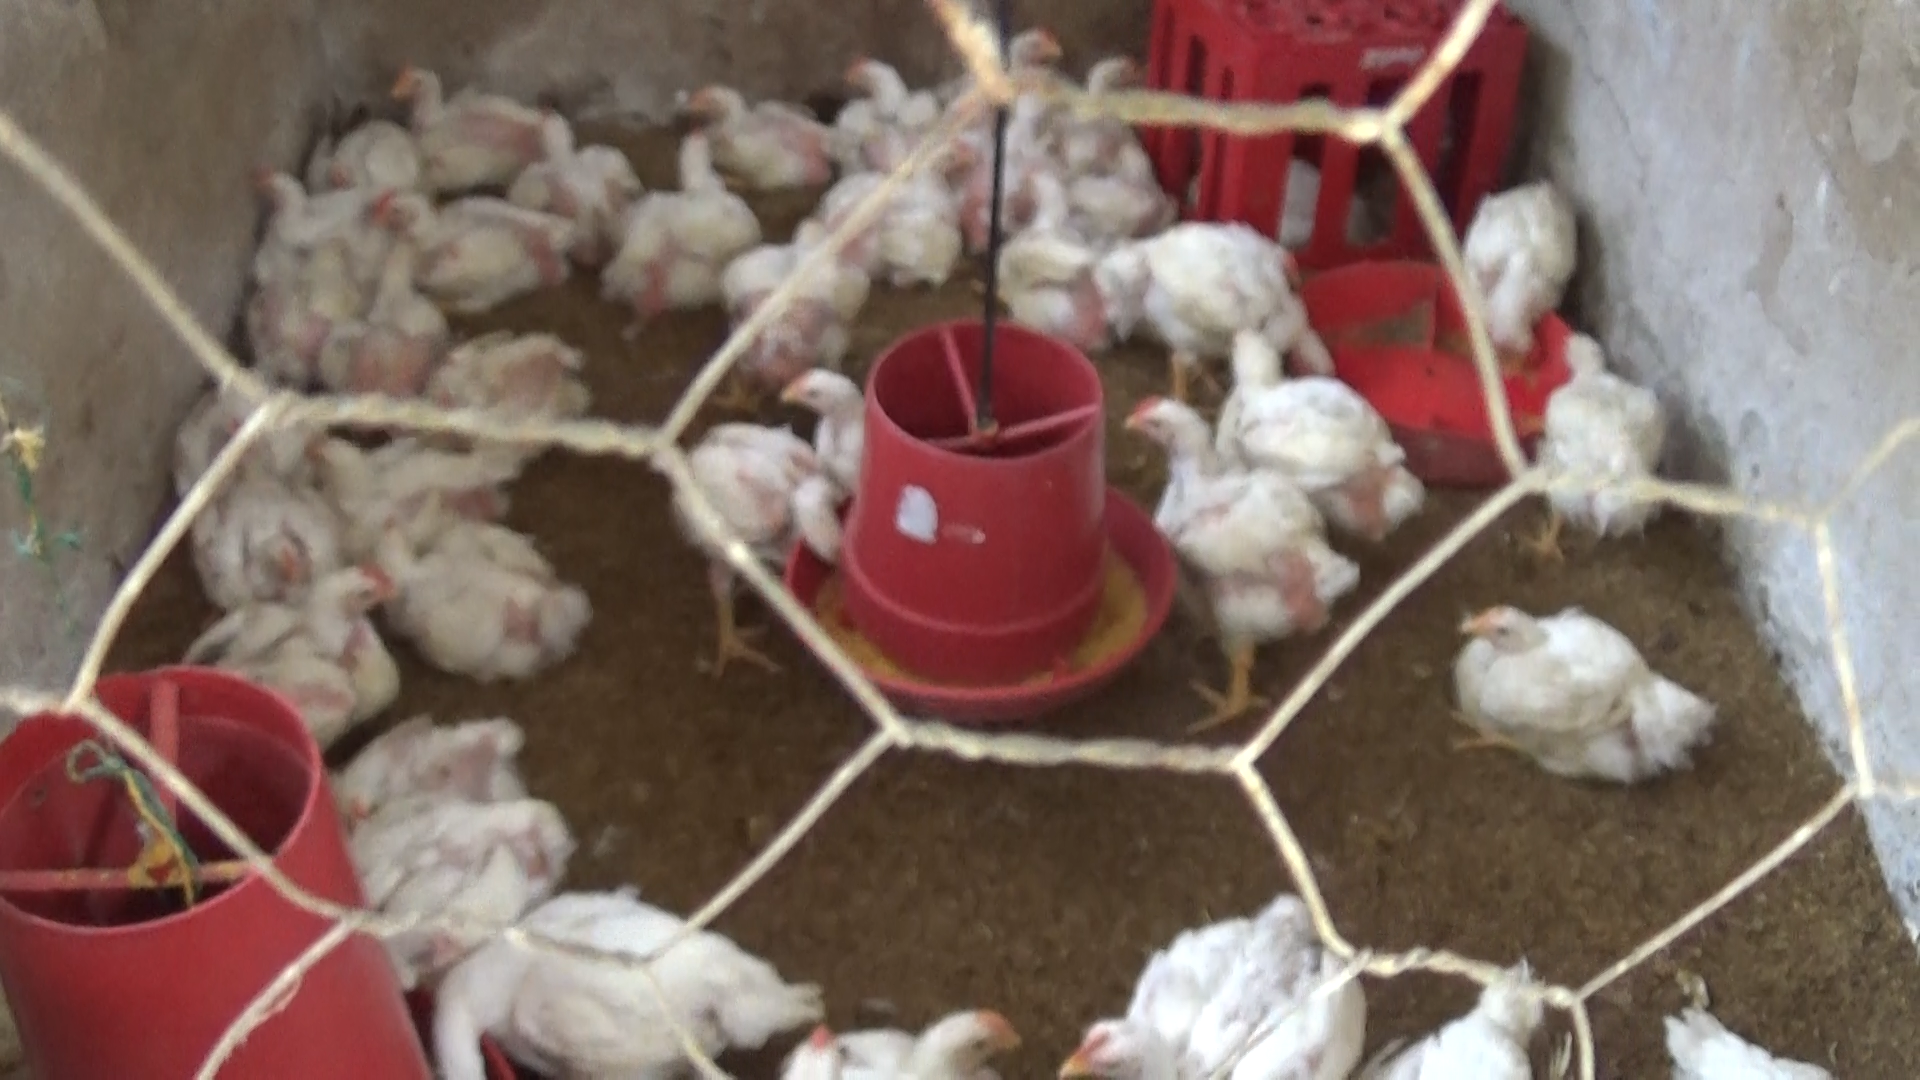Pollos: (1114, 392, 1361, 744), (419, 868, 808, 1077), (1433, 576, 1726, 812), (1058, 889, 1389, 1080), (666, 434, 881, 678), (1203, 309, 1425, 538), (1515, 323, 1696, 578), (328, 703, 555, 884), (1091, 214, 1336, 377), (185, 558, 400, 737), (591, 128, 761, 348), (372, 516, 587, 684), (345, 179, 587, 323), (1445, 169, 1607, 378), (179, 436, 360, 607), (381, 338, 605, 465), (761, 978, 1031, 1080), (971, 160, 1112, 334), (665, 76, 825, 225), (375, 61, 549, 187), (761, 332, 906, 477), (485, 103, 640, 239), (225, 132, 381, 258), (336, 239, 435, 386), (829, 40, 942, 148), (1000, 22, 1077, 78)
